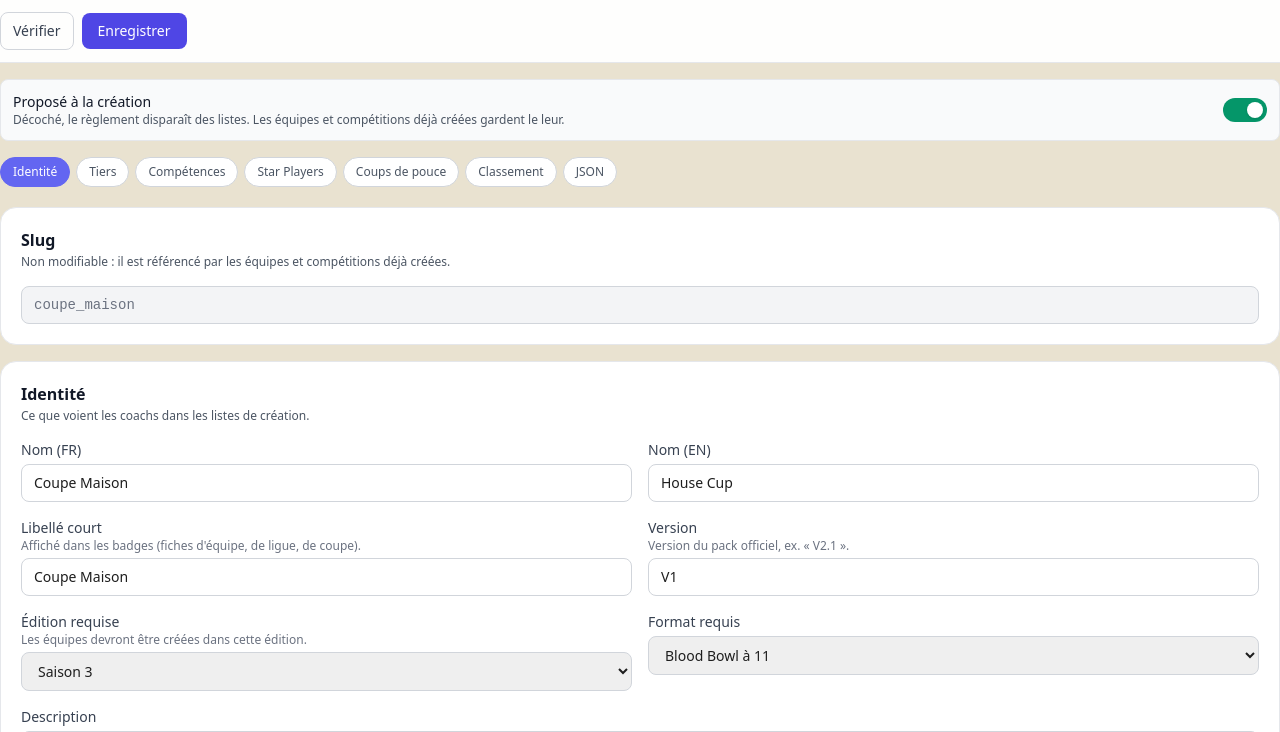
Test case: validation servie par le serveur › l'erreur apparaît sur le champ une fois l'onglet ouvert
The width and height of the screenshot is (1280, 732).
Click the button with test id "ruleset-check" at (37, 31), box [0,12,74,50]
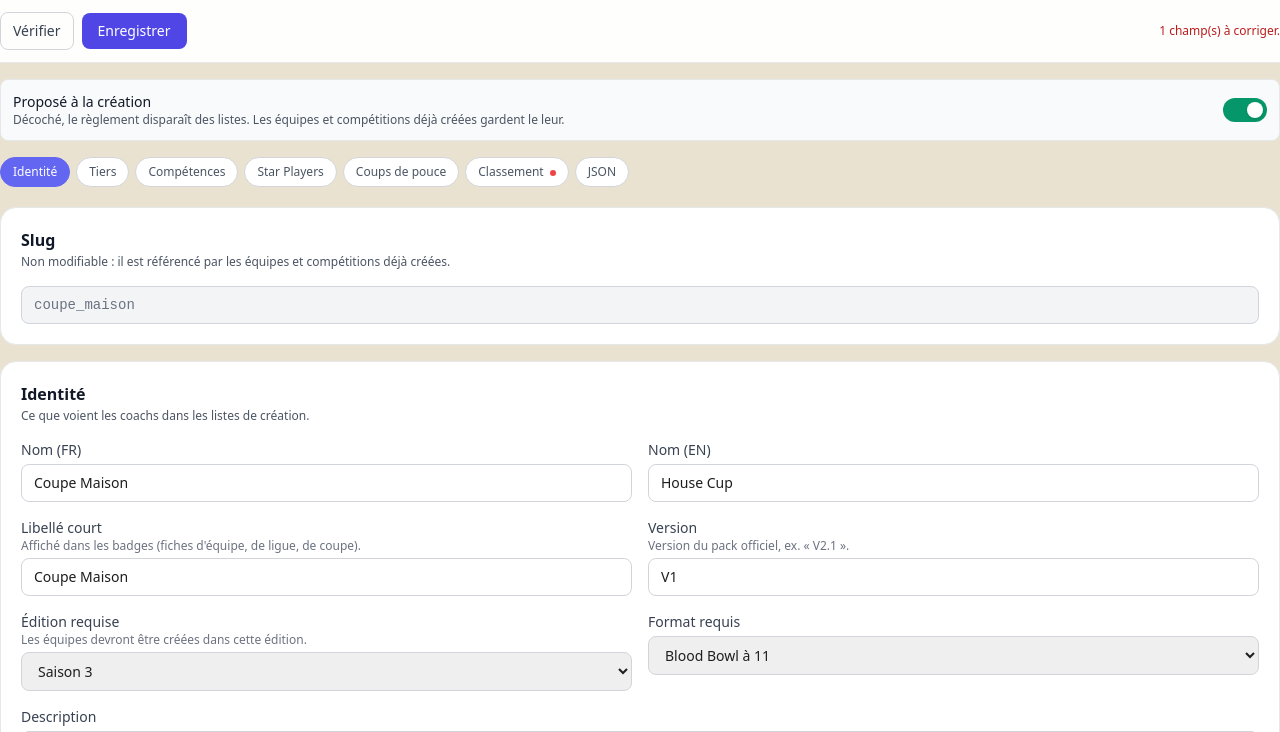
Check: the message "1 champ(s) à corriger." is shown, box [1159,23,1279,39]
Click the tab with test id "tab-scoring" at (517, 172), box [465,157,569,187]
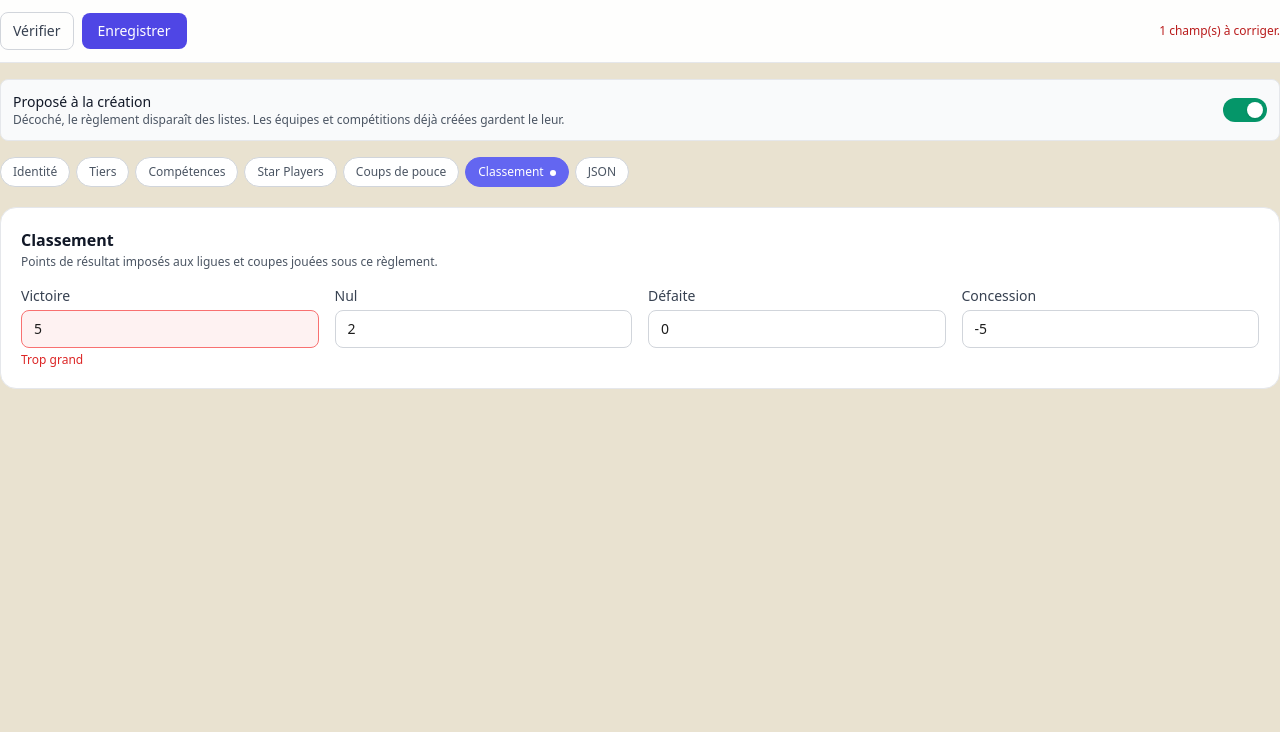
Check: the message with test id "error-scoring.win" reads "Trop grand", box [21,351,83,368]
